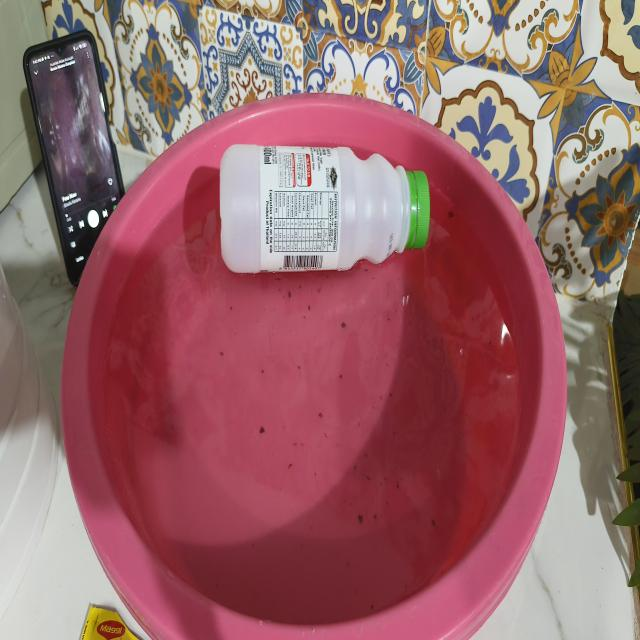Plastic Bottle: (198, 114, 456, 300)
